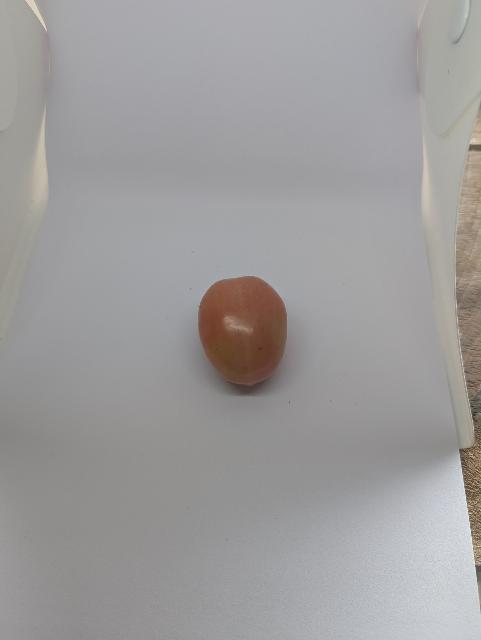turning: (194, 271, 295, 391)
